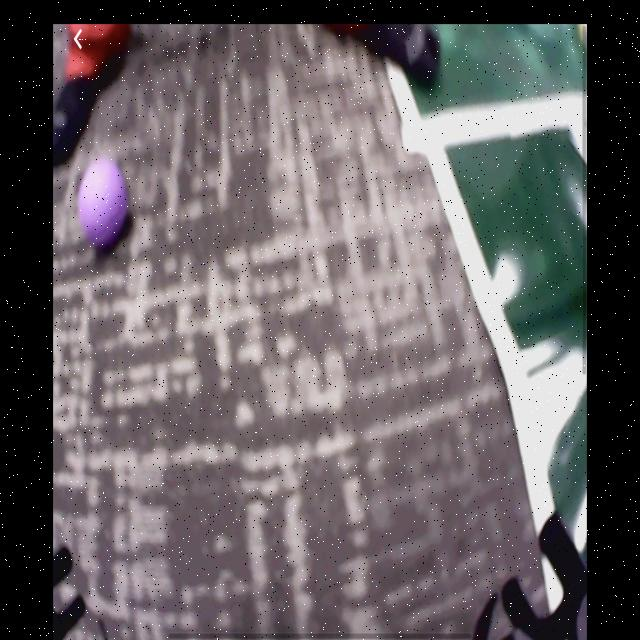ball: (76, 160, 128, 246)
